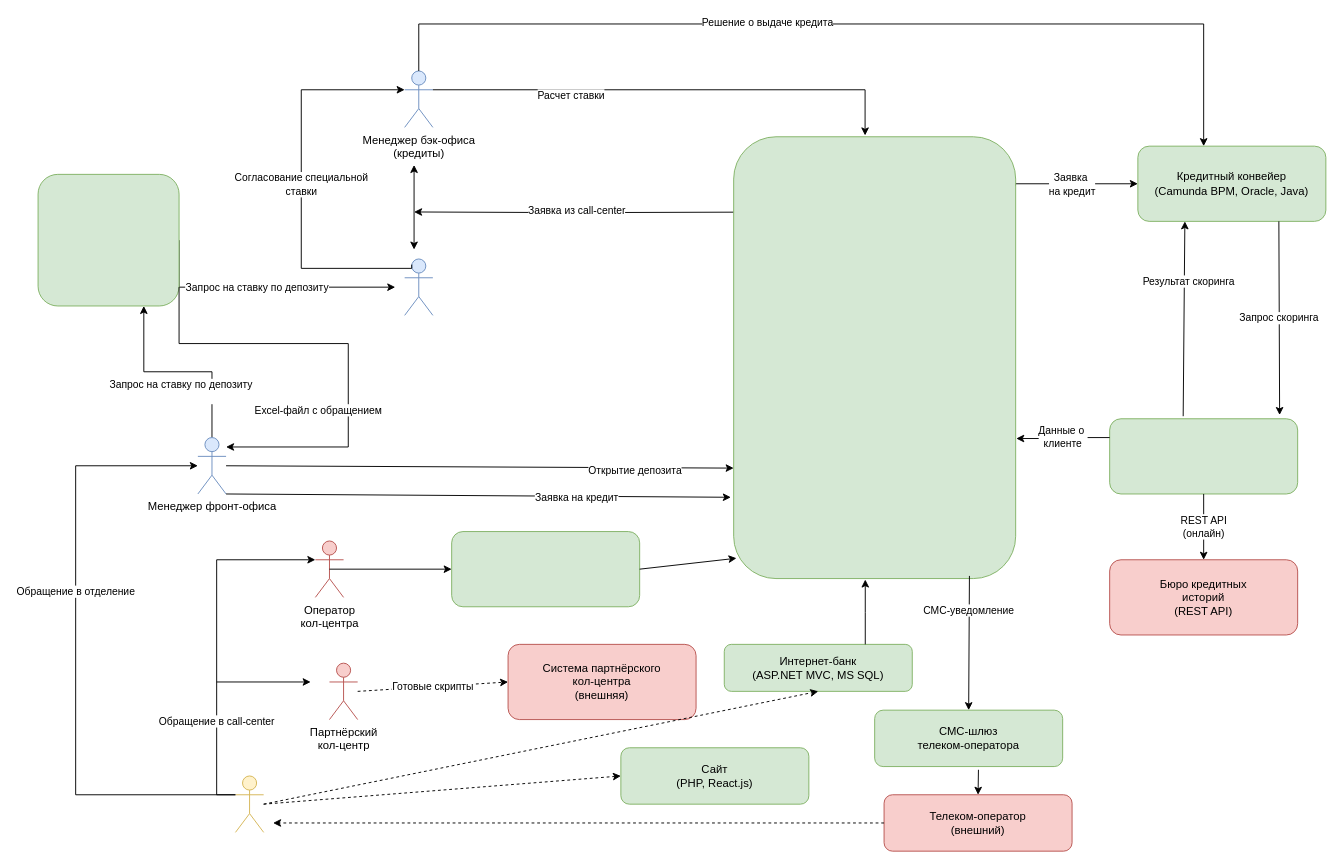
Image size: 1342x868. Some labels were removed from this diagram. Each missing label, with the centre of its shape:
"АБС (Автоматизированная банковская система)" belongs at point (874, 357).
"Клиент" belongs at point (249, 803).
"Менеджер бэк-офиса (депозиты)" belongs at point (418, 286).
"Почтовый сервис" belongs at point (108, 239).
"Система кол-центра" belongs at point (545, 569).
"Система кредитного скоринга (Python, Flask, PostgreSQL)" belongs at point (1203, 456).
